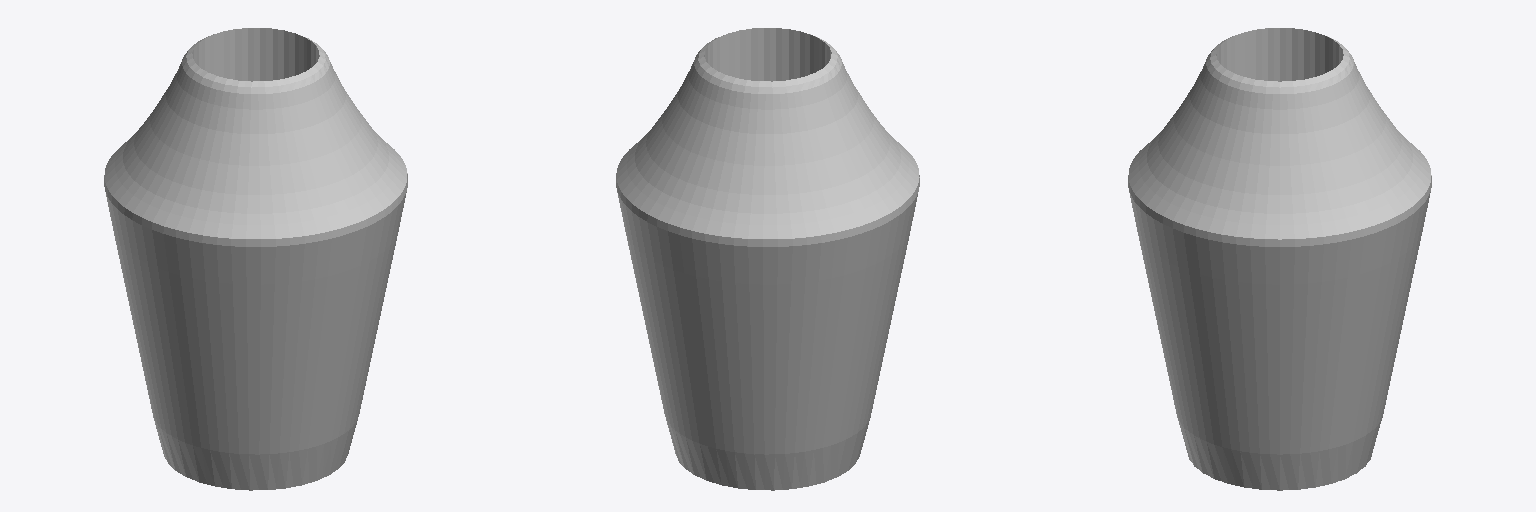
Rendered from blenderLab.obj.
The picture shows the model from 3 angles: view 1: azimuth 30°, elevation 25°; view 2: azimuth 150°, elevation 25°; view 3: azimuth 270°, elevation 25°; orthographic projection.
Parts seen in each view (by area): view 1: Cylinder; view 2: Cylinder; view 3: Cylinder.
Boxes of the visible parts, x1=… form: Cylinder: x1=104, y1=28, x2=407, y2=490; Cylinder: x1=616, y1=28, x2=919, y2=490; Cylinder: x1=1128, y1=28, x2=1431, y2=490.
Size of the model in its own units: 1.97 by 2.88 by 1.97.